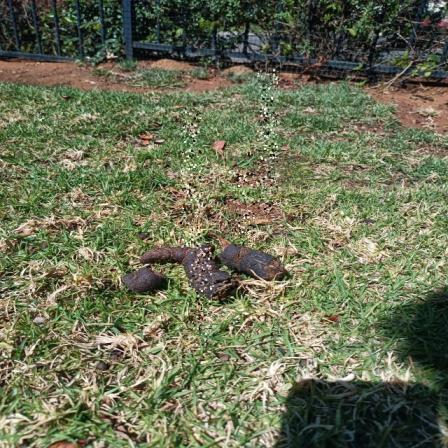dog-poop: (126, 232, 286, 306)
